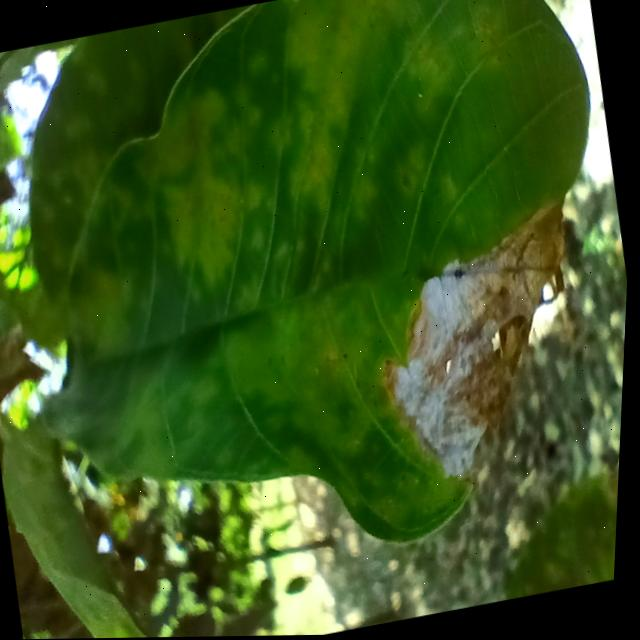Leaf-Blight: (358, 201, 610, 497)
